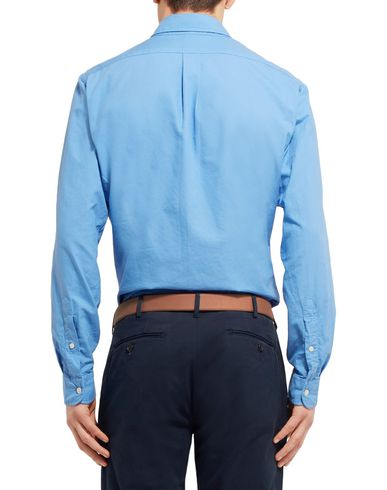F_belt: (109, 290, 287, 317)
F_dress pants: (104, 291, 292, 490)
F_shirt: (44, 16, 341, 405)
